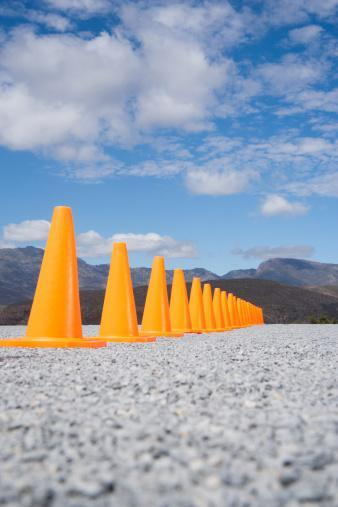Cone: (4, 204, 99, 348), (98, 241, 145, 340), (147, 255, 175, 336), (173, 269, 199, 330), (192, 278, 204, 333), (202, 284, 215, 331), (214, 289, 224, 332)
